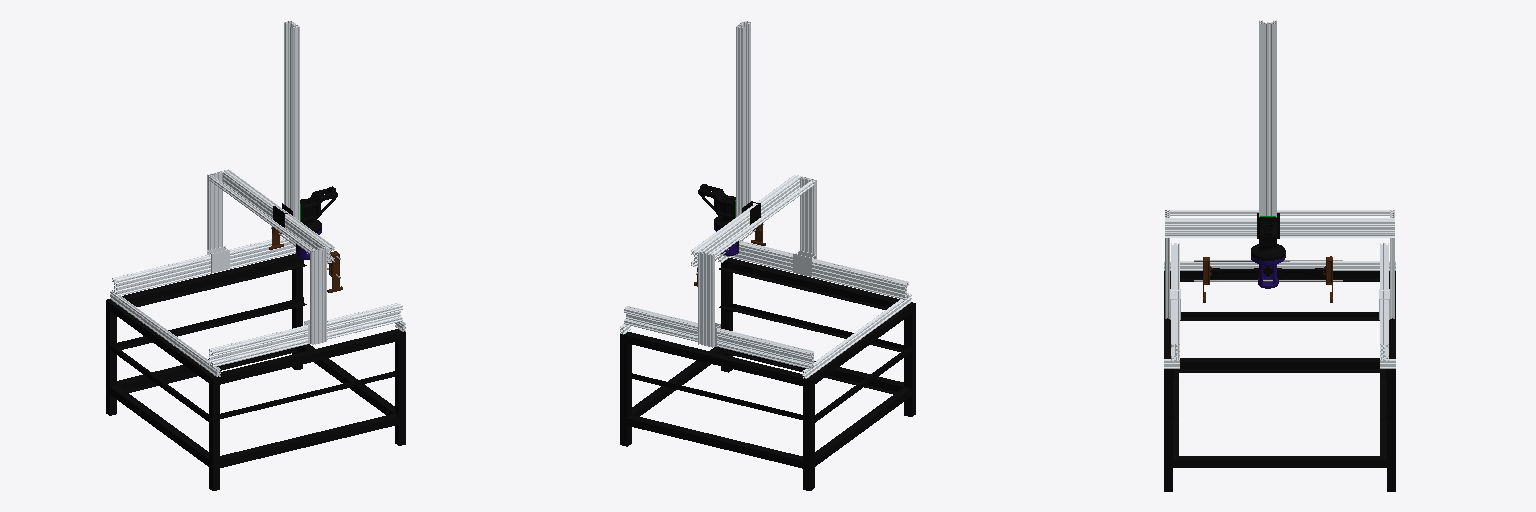
The robot description file, URDF, robot "robot_v2":
<?xml version="1.0" ?>
<!-- =================================================================================== -->
<!-- |    This document was autogenerated by xacro from src/robot_v2_description/urdf/robot_v2.xacro | -->
<!-- |    EDITING THIS FILE BY HAND IS NOT RECOMMENDED                                 | -->
<!-- =================================================================================== -->
<robot name="robot_v2">
  <!-- Editar los valores color_* aqui: URDF y Gazebo comparten esta paleta. -->
  <material name="silver">
    <color rgba="0.700 0.700 0.700 1.000"/>
  </material>
  <!-- URDF define color y opacidad. El acabado mate, el brillo y la
     metalicidad se configuran en el material del simulador. -->
  <material name="negro_azabache_mate">
    <color rgba="0.080 0.080 0.080 1.000"/>
  </material>
  <material name="gris_muy_oscuro">
    <color rgba="0.080 0.080 0.080 1.000"/>
  </material>
  <material name="plateado_metalico_brillante">
    <color rgba="0.900 0.920 0.940 1.000"/>
  </material>
  <material name="verde">
    <color rgba="0.050 0.550 0.120 1.000"/>
  </material>
  <material name="cafe_oscuro">
    <color rgba="0.320 0.190 0.110 1.000"/>
  </material>
  <material name="azul_violaceo">
    <color rgba="0.180 0.100 0.420 1.000"/>
  </material>
  <link name="base_link">
    <inertial>
      <origin rpy="0 0 0" xyz="0.4465187338943092 0.5011775495578319 0.3193003997969371"/>
      <mass value="35.20021994999972"/>
      <inertia ixx="7.415486" ixy="-0.003976" ixz="0.518037" iyy="6.657505" iyz="-0.000645" izz="11.052925"/>
    </inertial>
    <visual>
      <origin rpy="0 0 0" xyz="0 0 0"/>
      <geometry>
        <mesh filename="../meshes/base_link.stl" scale="0.001 0.001 0.001"/>
      </geometry>
      <material name="gris_muy_oscuro"/>
    </visual>
    <collision>
      <origin rpy="0 0 0" xyz="0 0 0"/>
      <geometry>
        <mesh filename="../meshes/base_link.stl" scale="0.001 0.001 0.001"/>
      </geometry>
    </collision>
  </link>
  <link name="base_x_1">
    <inertial>
      <origin rpy="0 0 0" xyz="-0.5729136589173718 0.5000000000000003 0.06988546062662004"/>
      <mass value="5.223502606934044"/>
      <inertia ixx="0.96339" ixy="0.0" ixz="-0.016412" iyy="0.578667" iyz="0.0" izz="1.530371"/>
    </inertial>
    <visual>
      <origin rpy="0 0 0" xyz="-1.04 -0.0 -0.58"/>
      <geometry>
        <mesh filename="../meshes/base_x_1.stl" scale="0.001 0.001 0.001"/>
      </geometry>
      <material name="plateado_metalico_brillante"/>
    </visual>
    <collision>
      <origin rpy="0 0 0" xyz="-1.04 -0.0 -0.58"/>
      <geometry>
        <mesh filename="../meshes/base_x_1.stl" scale="0.001 0.001 0.001"/>
      </geometry>
    </collision>
  </link>
  <link name="x_link_1">
    <inertial>
      <origin rpy="0 0 0" xyz="0.07555855369126685 0.4303889916943571 0.3502453737179022"/>
      <mass value="4.217725934641851"/>
      <inertia ixx="0.681784" ixy="-3.2e-05" ixz="-0.00924" iyy="0.0999" iyz="0.000114" izz="0.593813"/>
    </inertial>
    <visual>
      <origin rpy="0 0 0" xyz="-0.529995 -0.07 -0.6215"/>
      <geometry>
        <mesh filename="../meshes/x_link_1.stl" scale="0.001 0.001 0.001"/>
      </geometry>
      <material name="plateado_metalico_brillante"/>
    </visual>
    <collision>
      <origin rpy="0 0 0" xyz="-0.529995 -0.07 -0.6215"/>
      <geometry>
        <mesh filename="../meshes/x_link_1.stl" scale="0.001 0.001 0.001"/>
      </geometry>
    </collision>
  </link>
  <link name="y_link_1">
    <inertial>
      <origin rpy="0 0 0" xyz="-0.019999999999997686 -0.05069622199334184 0.050000000000004485"/>
      <mass value="0.7973307511653405"/>
      <inertia ixx="0.001358" ixy="-0.0" ixz="0.0" iyy="0.00108" iyz="0.0" izz="0.001079"/>
    </inertial>
    <visual>
      <origin rpy="0 0 0" xyz="-0.659995 -0.50041 -1.023"/>
      <geometry>
        <mesh filename="../meshes/y_link_1.stl" scale="0.001 0.001 0.001"/>
      </geometry>
      <material name="negro_azabache_mate"/>
    </visual>
    <collision>
      <origin rpy="0 0 0" xyz="-0.659995 -0.50041 -1.023"/>
      <geometry>
        <mesh filename="../meshes/y_link_1.stl" scale="0.001 0.001 0.001"/>
      </geometry>
    </collision>
  </link>
  <link name="z_link_1">
    <inertial>
      <origin rpy="0 0 0" xyz="0.022649381038547967 0.03848712470817417 0.5175000000000003"/>
      <mass value="2.203345266241909"/>
      <inertia ixx="0.198241" ixy="0.0" ixz="0.0" iyy="0.197014" iyz="0.0" izz="0.001875"/>
    </inertial>
    <visual>
      <origin rpy="0 0 0" xyz="-0.664995 -0.40041 -1.023"/>
      <geometry>
        <mesh filename="../meshes/z_link_1.stl" scale="0.001 0.001 0.001"/>
      </geometry>
      <material name="plateado_metalico_brillante"/>
    </visual>
    <collision>
      <origin rpy="0 0 0" xyz="-0.664995 -0.40041 -1.023"/>
      <geometry>
        <mesh filename="../meshes/z_link_1.stl" scale="0.001 0.001 0.001"/>
      </geometry>
    </collision>
  </link>
  <link name="complemento_cabezal_1">
    <inertial>
      <origin rpy="0 0 0" xyz="0.003000000000002223 -2.9404609624972267e-07 0.06250000000000067"/>
      <mass value="0.060885189763587116"/>
      <inertia ixx="0.000106" ixy="0.0" ixz="0.0" iyy="7.8e-05" iyz="-0.0" izz="2.8e-05"/>
    </inertial>
    <visual>
      <origin rpy="0 0 0" xyz="-0.704995 -0.43891 -1.023"/>
      <geometry>
        <mesh filename="../meshes/complemento_cabezal_1.stl" scale="0.001 0.001 0.001"/>
      </geometry>
      <material name="verde"/>
    </visual>
    <collision>
      <origin rpy="0 0 0" xyz="-0.704995 -0.43891 -1.023"/>
      <geometry>
        <mesh filename="../meshes/complemento_cabezal_1.stl" scale="0.001 0.001 0.001"/>
      </geometry>
    </collision>
  </link>
  <link name="robot_cabezal_1">
    <inertial>
      <origin rpy="0 0 0" xyz="0.07470375860725609 1.1761516747865741e-05 0.07435169471155967"/>
      <mass value="0.735233698589477"/>
      <inertia ixx="0.001161" ixy="-0.0" ixz="-0.000677" iyy="0.002962" iyz="-0.0" izz="0.002526"/>
    </inertial>
    <visual>
      <origin rpy="0 0 0" xyz="-0.710995 -0.43891 -1.023"/>
      <geometry>
        <mesh filename="../meshes/robot_cabezal_1.stl" scale="0.001 0.001 0.001"/>
      </geometry>
      <material name="negro_azabache_mate"/>
    </visual>
    <collision>
      <origin rpy="0 0 0" xyz="-0.710995 -0.43891 -1.023"/>
      <geometry>
        <mesh filename="../meshes/robot_cabezal_1.stl" scale="0.001 0.001 0.001"/>
      </geometry>
    </collision>
  </link>
  <link name="acople_cabezal_1">
    <inertial>
      <origin rpy="0 0 0" xyz="3.885780586188048e-15 -2.940460988032356e-07 -0.03529715770244257"/>
      <mass value="0.43485593621650237"/>
      <inertia ixx="0.000618" ixy="-0.0" ixz="0.0" iyy="0.000617" iyz="0.0" izz="0.001131"/>
    </inertial>
    <visual>
      <origin rpy="0 0 0" xyz="-0.760995 -0.43891 -1.0455"/>
      <geometry>
        <mesh filename="../meshes/acople_cabezal_1.stl" scale="0.001 0.001 0.001"/>
      </geometry>
      <material name="negro_azabache_mate"/>
    </visual>
    <collision>
      <origin rpy="0 0 0" xyz="-0.760995 -0.43891 -1.0455"/>
      <geometry>
        <mesh filename="../meshes/acople_cabezal_1.stl" scale="0.001 0.001 0.001"/>
      </geometry>
    </collision>
  </link>
  <link name="cabezal_inferior_1">
    <inertial>
      <origin rpy="0 0 0" xyz="-0.0032788461990163054 -2.013089014296643e-05 -0.05001506846643711"/>
      <mass value="0.808298897205994"/>
      <inertia ixx="0.002812" ixy="-0.0" ixz="-8.5e-05" iyy="0.002837" iyz="-1e-06" izz="0.001617"/>
    </inertial>
    <visual>
      <origin rpy="0 0 0" xyz="-0.760995 -0.43891 -0.996"/>
      <geometry>
        <mesh filename="../meshes/cabezal_inferior_1.stl" scale="0.001 0.001 0.001"/>
      </geometry>
      <material name="azul_violaceo"/>
    </visual>
    <collision>
      <origin rpy="0 0 0" xyz="-0.760995 -0.43891 -0.996"/>
      <geometry>
        <mesh filename="../meshes/cabezal_inferior_1.stl" scale="0.001 0.001 0.001"/>
      </geometry>
    </collision>
  </link>
  <link name="servo_mg996R_1">
    <inertial>
      <origin rpy="0 0 0" xyz="-0.008872221063190744 0.004961019077659667 0.02474433271706722"/>
      <mass value="0.24706045427040543"/>
      <inertia ixx="4.3e-05" ixy="-0.0" ixz="-0.0" iyy="6.5e-05" iyz="-0.0" izz="3.8e-05"/>
    </inertial>
    <visual>
      <origin rpy="0 0 0" xyz="-0.740517 -0.43382 -0.8805"/>
      <geometry>
        <mesh filename="../meshes/servo_mg996R_1.stl" scale="0.001 0.001 0.001"/>
      </geometry>
      <material name="negro_azabache_mate"/>
    </visual>
    <collision>
      <origin rpy="0 0 0" xyz="-0.740517 -0.43382 -0.8805"/>
      <geometry>
        <mesh filename="../meshes/servo_mg996R_1.stl" scale="0.001 0.001 0.001"/>
      </geometry>
    </collision>
  </link>
  <link name="horn_Servo_1">
    <inertial>
      <origin rpy="0 0 0" xyz="0.003187489121206477 1.4413294837922752e-05 0.0"/>
      <mass value="0.005099610361289279"/>
      <!-- Estimacion por volumen STL y densidad uniforme; masa y origen CAD conservados. -->
      <inertia ixx="2.4043669365e-07" ixy="5.0476408546e-10" ixz="-8.5505096321e-16" iyy="1.2530990893e-07" iyz="2.4855236723e-15" izz="1.25307578e-07"/>
    </inertial>
    <visual>
      <origin rpy="0 0 0" xyz="-0.752495 -0.438872 -0.915"/>
      <geometry>
        <mesh filename="../meshes/horn_Servo_1.stl" scale="0.001 0.001 0.001"/>
      </geometry>
      <material name="negro_azabache_mate"/>
    </visual>
    <collision>
      <origin rpy="0 0 0" xyz="-0.752495 -0.438872 -0.915"/>
      <geometry>
        <mesh filename="../meshes/horn_Servo_1.stl" scale="0.001 0.001 0.001"/>
      </geometry>
    </collision>
  </link>
  <link name="acople_palas_1">
    <inertial>
      <origin rpy="0 0 0" xyz="0.0011958116261031604 5.411013637823814e-06 0.0"/>
      <mass value="0.07977197198617901"/>
      <inertia ixx="3e-05" ixy="0.0" ixz="-0.0" iyy="5e-06" iyz="-0.0" izz="2.6e-05"/>
    </inertial>
    <visual>
      <origin rpy="0 0 0" xyz="-0.756995 -0.438892 -0.915"/>
      <geometry>
        <mesh filename="../meshes/acople_palas_1.stl" scale="0.001 0.001 0.001"/>
      </geometry>
      <material name="negro_azabache_mate"/>
    </visual>
    <collision>
      <origin rpy="0 0 0" xyz="-0.756995 -0.438892 -0.915"/>
      <geometry>
        <mesh filename="../meshes/acople_palas_1.stl" scale="0.001 0.001 0.001"/>
      </geometry>
    </collision>
  </link>
  <link name="Paleta_grid_1_1">
    <inertial>
      <origin rpy="0 0 0" xyz="0.005368595240389684 -0.1069766958212447 2.2922720166462796e-08"/>
      <mass value="0.05350927460261899"/>
      <inertia ixx="0.000258" ixy="1e-06" ixz="-0.0" iyy="3e-06" iyz="0.0" izz="0.000259"/>
    </inertial>
    <visual>
      <origin rpy="0 0 0" xyz="-0.754105 -0.413879 -0.915"/>
      <geometry>
        <mesh filename="../meshes/Paleta_grid_1_1.stl" scale="0.001 0.001 0.001"/>
      </geometry>
      <material name="negro_azabache_mate"/>
    </visual>
    <collision>
      <origin rpy="0 0 0" xyz="-0.754105 -0.413879 -0.915"/>
      <geometry>
        <mesh filename="../meshes/Paleta_grid_1_1.stl" scale="0.001 0.001 0.001"/>
      </geometry>
    </collision>
  </link>
  <link name="Paleta_grid_2_1">
    <inertial>
      <origin rpy="0 0 0" xyz="0.004431445128948663 0.10701969304160469 2.2922720166462796e-08"/>
      <mass value="0.05350927460261899"/>
      <inertia ixx="0.000258" ixy="1e-06" ixz="0.0" iyy="3e-06" iyz="-0.0" izz="0.000259"/>
    </inertial>
    <visual>
      <origin rpy="0 0 0" xyz="-0.753885 -0.463879 -0.915"/>
      <geometry>
        <mesh filename="../meshes/Paleta_grid_2_1.stl" scale="0.001 0.001 0.001"/>
      </geometry>
      <material name="negro_azabache_mate"/>
    </visual>
    <collision>
      <origin rpy="0 0 0" xyz="-0.753885 -0.463879 -0.915"/>
      <geometry>
        <mesh filename="../meshes/Paleta_grid_2_1.stl" scale="0.001 0.001 0.001"/>
      </geometry>
    </collision>
  </link>
  <link name="Pala_DER_1">
    <inertial>
      <origin rpy="0 0 0" xyz="-0.003882699651937993 -0.026794629021388267 -0.019023121817094535"/>
      <mass value="0.1680843406216635"/>
      <inertia ixx="0.000488" ixy="-0.0" ixz="0.0" iyy="0.000494" iyz="-2.9e-05" izz="4.1e-05"/>
    </inertial>
    <visual>
      <origin rpy="0 0 0" xyz="-0.764843 -0.199924 -0.915"/>
      <geometry>
        <mesh filename="../meshes/Pala_DER_1.stl" scale="0.001 0.001 0.001"/>
      </geometry>
      <material name="cafe_oscuro"/>
    </visual>
    <collision>
      <origin rpy="0 0 0" xyz="-0.764843 -0.199924 -0.915"/>
      <geometry>
        <mesh filename="../meshes/Pala_DER_1.stl" scale="0.001 0.001 0.001"/>
      </geometry>
    </collision>
  </link>
  <link name="Pala_IZQ_1">
    <inertial>
      <origin rpy="0 0 0" xyz="-0.004117276449730367 0.02675951802045895 -0.01902312142512841"/>
      <mass value="0.16808434411260517"/>
      <inertia ixx="0.000488" ixy="-0.0" ixz="-0.0" iyy="0.000494" iyz="2.9e-05" izz="4.1e-05"/>
    </inertial>
    <visual>
      <origin rpy="0 0 0" xyz="-0.762747 -0.67792 -0.915"/>
      <geometry>
        <mesh filename="../meshes/Pala_IZQ_1.stl" scale="0.001 0.001 0.001"/>
      </geometry>
      <material name="cafe_oscuro"/>
    </visual>
    <collision>
      <origin rpy="0 0 0" xyz="-0.762747 -0.67792 -0.915"/>
      <geometry>
        <mesh filename="../meshes/Pala_IZQ_1.stl" scale="0.001 0.001 0.001"/>
      </geometry>
    </collision>
  </link>
  <link name="Soporte_1_1">
    <inertial>
      <origin rpy="0 0 0" xyz="-0.001402560565108013 0.31999688228192996 -1.1102230246251565e-16"/>
      <mass value="0.02663442251713428"/>
      <!-- Estimacion por volumen STL y densidad uniforme; masa y origen CAD conservados. -->
      <inertia ixx="0.00092037155027" ixy="4.0340583526e-06" ixz="2.5007250268e-14" iyy="3.1003731189e-07" iyz="-3.1255448549e-12" izz="0.00092038912539"/>
    </inertial>
    <visual>
      <origin rpy="0 0 0" xyz="-0.761192 -0.393873 -0.963"/>
      <geometry>
        <mesh filename="../meshes/Soporte_1_1.stl" scale="0.001 0.001 0.001"/>
      </geometry>
      <material name="silver"/>
    </visual>
    <collision>
      <origin rpy="0 0 0" xyz="-0.761192 -0.393873 -0.963"/>
      <geometry>
        <mesh filename="../meshes/Soporte_1_1.stl" scale="0.001 0.001 0.001"/>
      </geometry>
    </collision>
  </link>
  <link name="Soporte_2_1">
    <inertial>
      <origin rpy="0 0 0" xyz="-0.0014028765290923229 0.3199969462788138 -2.220446049250313e-16"/>
      <mass value="0.02663442251713428"/>
      <!-- Estimacion por volumen STL y densidad uniforme; masa y origen CAD conservados. -->
      <inertia ixx="0.00092037233368" ixy="4.0341053871e-06" ixz="-1.0493772854e-14" iyy="3.1003779368e-07" iyz="1.8476833119e-13" izz="0.0009203899093"/>
    </inertial>
    <visual>
      <origin rpy="0 0 0" xyz="-0.761192 -0.393945 -0.867"/>
      <geometry>
        <mesh filename="../meshes/Soporte_2_1.stl" scale="0.001 0.001 0.001"/>
      </geometry>
      <material name="silver"/>
    </visual>
    <collision>
      <origin rpy="0 0 0" xyz="-0.761192 -0.393945 -0.867"/>
      <geometry>
        <mesh filename="../meshes/Soporte_2_1.stl" scale="0.001 0.001 0.001"/>
      </geometry>
    </collision>
  </link>
  <joint name="rig_1" type="fixed">
    <origin rpy="0 0 0" xyz="1.0385 0.0 0.58"/>
    <parent link="base_link"/>
    <child link="base_x_1"/>
  </joint>
  <joint name="x_joint" type="prismatic">
    <origin rpy="0 0 0" xyz="-0.510005 0.07 0.0415"/>
    <parent link="base_x_1"/>
    <child link="x_link_1"/>
    <axis xyz="-1.0 0.0 0.0"/>
    <limit effort="100" lower="-0.35" upper="0.45" velocity="100"/>
  </joint>
  <joint name="y_joint" type="prismatic">
    <origin rpy="0 0 0" xyz="0.13 0.43041 0.4015"/>
    <parent link="x_link_1"/>
    <child link="y_link_1"/>
    <axis xyz="0.0 1.0 0.0"/>
    <limit effort="100" lower="-0.2" upper="0.2" velocity="100"/>
  </joint>
  <joint name="z_joint" type="prismatic">
    <origin rpy="0 0 0" xyz="0.005 -0.09 0.0"/>
    <parent link="y_link_1"/>
    <child link="z_link_1"/>
    <axis xyz="0.0 0.0 -1.0"/>
    <limit effort="100" lower="0.0" upper="0.935" velocity="100"/>
  </joint>
  <joint name="rig_2" type="fixed">
    <origin rpy="0 0 0" xyz="0.04 0.0385 0.0"/>
    <parent link="z_link_1"/>
    <child link="complemento_cabezal_1"/>
  </joint>
  <joint name="rig_3" type="fixed">
    <origin rpy="0 0 0" xyz="0.006 0.0 0.0"/>
    <parent link="complemento_cabezal_1"/>
    <child link="robot_cabezal_1"/>
  </joint>
  <joint name="r_joint" type="revolute">
    <origin rpy="0 0 0" xyz="0.05 0.0 0.0225"/>
    <parent link="robot_cabezal_1"/>
    <child link="acople_cabezal_1"/>
    <axis xyz="0.0 0.0 -1.0"/>
    <limit effort="100" lower="-1.570796" upper="1.570796" velocity="100"/>
  </joint>
  <joint name="rig_4" type="fixed">
    <origin rpy="0 0 0" xyz="0.0 0.0 -0.0495"/>
    <parent link="acople_cabezal_1"/>
    <child link="cabezal_inferior_1"/>
  </joint>
  <joint name="rig_5" type="fixed">
    <origin rpy="0 0 0" xyz="-0.020478 -0.00509 -0.1155"/>
    <parent link="cabezal_inferior_1"/>
    <child link="servo_mg996R_1"/>
  </joint>
  <joint name="rig_6" type="fixed">
    <origin rpy="0 0 0" xyz="0.011978 0.005052 0.0345"/>
    <parent link="servo_mg996R_1"/>
    <child link="horn_Servo_1"/>
  </joint>
  <joint name="rig_7" type="fixed">
    <origin rpy="0 0 0" xyz="0.0045 2e-05 0.0"/>
    <parent link="horn_Servo_1"/>
    <child link="acople_palas_1"/>
  </joint>
  <joint name="grid_der" type="prismatic">
    <origin rpy="0 0 0" xyz="-0.00289 -0.025013 0.0"/>
    <parent link="acople_palas_1"/>
    <child link="Paleta_grid_1_1"/>
    <axis xyz="0.004384 -0.99999 -0.0"/>
    <limit effort="100" lower="-0.04" upper="0.04" velocity="100"/>
    <mimic joint="grid" multiplier="-1" offset="0"/>
  </joint>
  <joint name="grid" type="prismatic">
    <origin rpy="0 0 0" xyz="-0.00311 0.024987 0.0"/>
    <parent link="acople_palas_1"/>
    <child link="Paleta_grid_2_1"/>
    <axis xyz="0.004384 -0.99999 -0.0"/>
    <limit effort="100" lower="0.0" upper="0.04" velocity="100"/>
  </joint>
  <joint name="rig_8" type="fixed">
    <origin rpy="0 0 0" xyz="0.010738 -0.213955 0.0"/>
    <parent link="Paleta_grid_1_1"/>
    <child link="Pala_DER_1"/>
  </joint>
  <joint name="rig_9" type="fixed">
    <origin rpy="0 0 0" xyz="0.008862 0.214041 0.0"/>
    <parent link="Paleta_grid_2_1"/>
    <child link="Pala_IZQ_1"/>
  </joint>
  <joint name="rig_10" type="fixed">
    <origin rpy="0 0 0" xyz="0.000197 -0.32 -0.033"/>
    <parent link="cabezal_inferior_1"/>
    <child link="Soporte_1_1"/>
  </joint>
  <joint name="rig_11" type="fixed">
    <origin rpy="0 0 0" xyz="0.000197 -0.32 -0.129"/>
    <parent link="cabezal_inferior_1"/>
    <child link="Soporte_2_1"/>
  </joint>
</robot>

--- What the picture shows (computed from the rendered views, not written in the file) ---
The picture shows the robot from 3 angles, left to right: view 1: azimuth 30°, elevation 25°; view 2: azimuth 150°, elevation 25°; view 3: azimuth 270°, elevation 25°; orthographic projection.
Robot: robot_v2 — 18 links, 17 joints (1 revolute, 5 prismatic, 11 fixed); root link base_link; default pose: every joint at zero.
Links seen in each view (by area): view 1: base_link, base_x_1, x_link_1, z_link_1, robot_cabezal_1; view 2: base_link, base_x_1, x_link_1, z_link_1, robot_cabezal_1; view 3: base_link, x_link_1, base_x_1, z_link_1, robot_cabezal_1.
Link boxes in pixels (bbox=[...]): base_link: bbox=[106, 254, 405, 490]; base_x_1: bbox=[110, 236, 405, 376]; x_link_1: bbox=[207, 169, 334, 344]; z_link_1: bbox=[284, 21, 299, 220]; robot_cabezal_1: bbox=[300, 186, 337, 222]; base_link: bbox=[620, 258, 915, 490]; base_x_1: bbox=[620, 240, 911, 378]; x_link_1: bbox=[691, 175, 816, 347]; z_link_1: bbox=[736, 21, 750, 216]; robot_cabezal_1: bbox=[698, 184, 735, 218]; base_link: bbox=[1164, 271, 1395, 491]; x_link_1: bbox=[1165, 210, 1394, 319]; base_x_1: bbox=[1164, 243, 1395, 368]; z_link_1: bbox=[1259, 20, 1276, 216]; robot_cabezal_1: bbox=[1259, 217, 1276, 247].
Bounding box of the posed robot: 1.04 × 1 × 2.06 m (x, y, z).
Meshes: 18 distinct files referenced, 18 mesh visuals loaded (18 binary STL).
